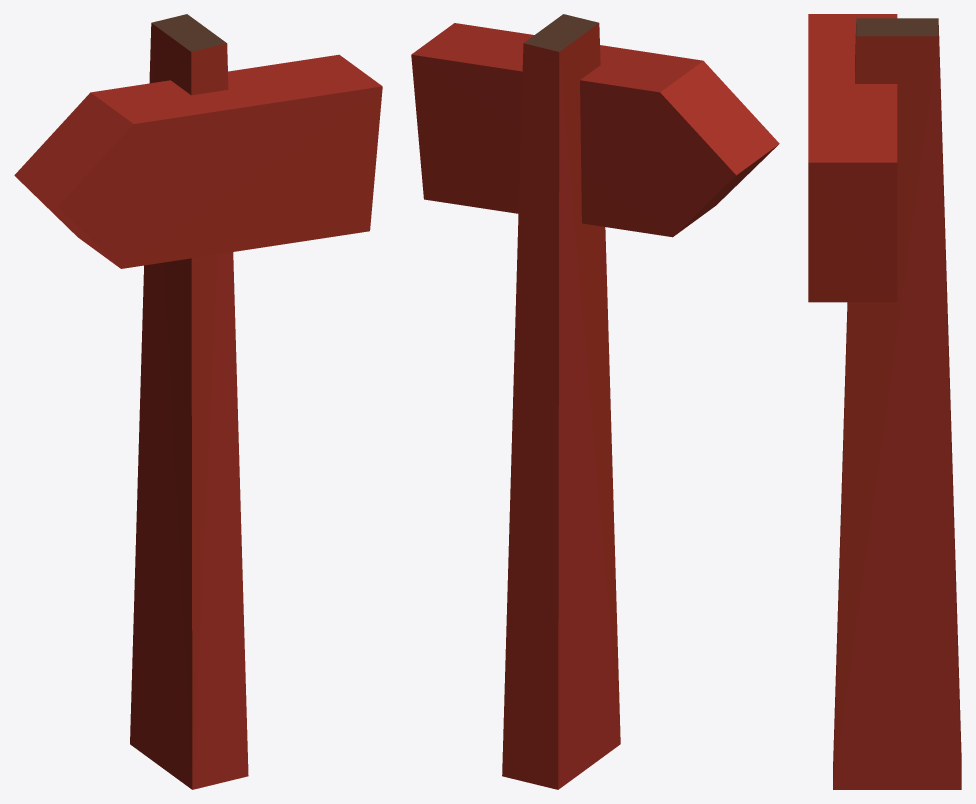
The model's file is dock-sign-coral.glb.
3 renders of one model, left to right at view 1: azimuth 30°, elevation 25°; view 2: azimuth 150°, elevation 25°; view 3: azimuth 270°, elevation 25°, orthographic. The views are drawn at different scales.
Parts seen in each view (by area): view 1: dock-sign-coral; view 2: dock-sign-coral; view 3: dock-sign-coral.
Part boxes in pixels (left/top/right/bottom): dock-sign-coral: left=14, top=14, right=382, bottom=789; dock-sign-coral: left=411, top=14, right=779, bottom=789; dock-sign-coral: left=808, top=14, right=961, bottom=789.
Bounding box in the file's own units: 0.73 × 1.56 × 0.29.
